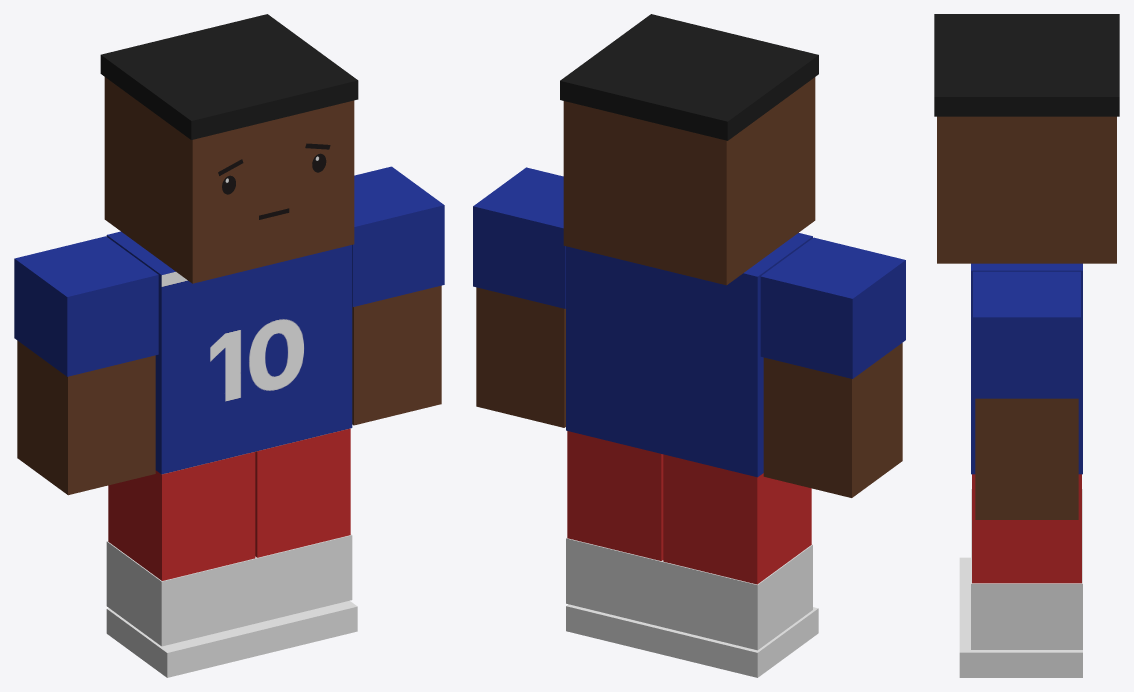
The model's file is athlete.glb.
3 views of the same model, side by side, from view 1: azimuth 30°, elevation 25°; view 2: azimuth 150°, elevation 25°; view 3: azimuth 270°, elevation 25° (orthographic). The views are drawn at different scales.
Parts seen in each view (by area): view 1: head, torso, arm_R, leg_R, arm_L, leg_L, face; view 2: head, torso, arm_R, leg_R, arm_L, leg_L; view 3: head, arm_L, leg_L, torso, leg_R.
Part boxes in pixels (x1,y1,x2,y2): head: (100,14,358,283); torso: (106,231,352,474); arm_R: (14,236,158,495); leg_R: (106,452,262,677); arm_L: (352,166,444,425); leg_L: (255,428,357,654); face: (218,143,330,219); head: (560,14,818,285); torso: (566,233,812,477); arm_R: (760,237,905,497); leg_R: (661,454,818,677); arm_L: (473,167,565,427); leg_L: (566,431,663,654); head: (934,14,1119,263); arm_L: (973,271,1080,519); leg_L: (959,474,1082,677); torso: (971,263,1082,474); leg_R: (959,489,1082,604).
Bounding box in the file's own units: 0.99 × 1.41 × 0.412.
Materials: 9 (2 with a texture image).
